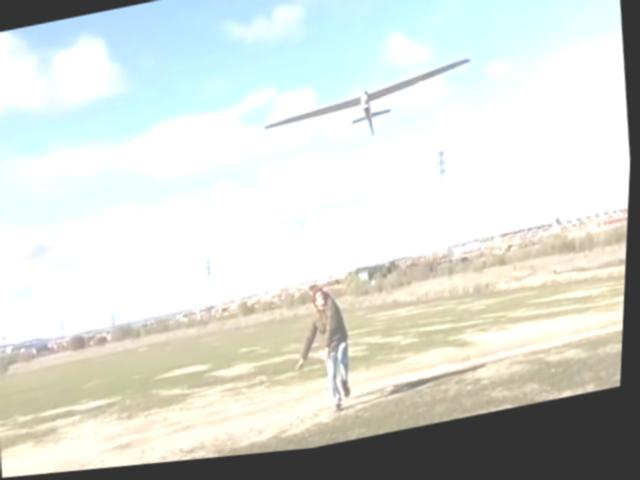iha: (262, 62, 481, 164)
